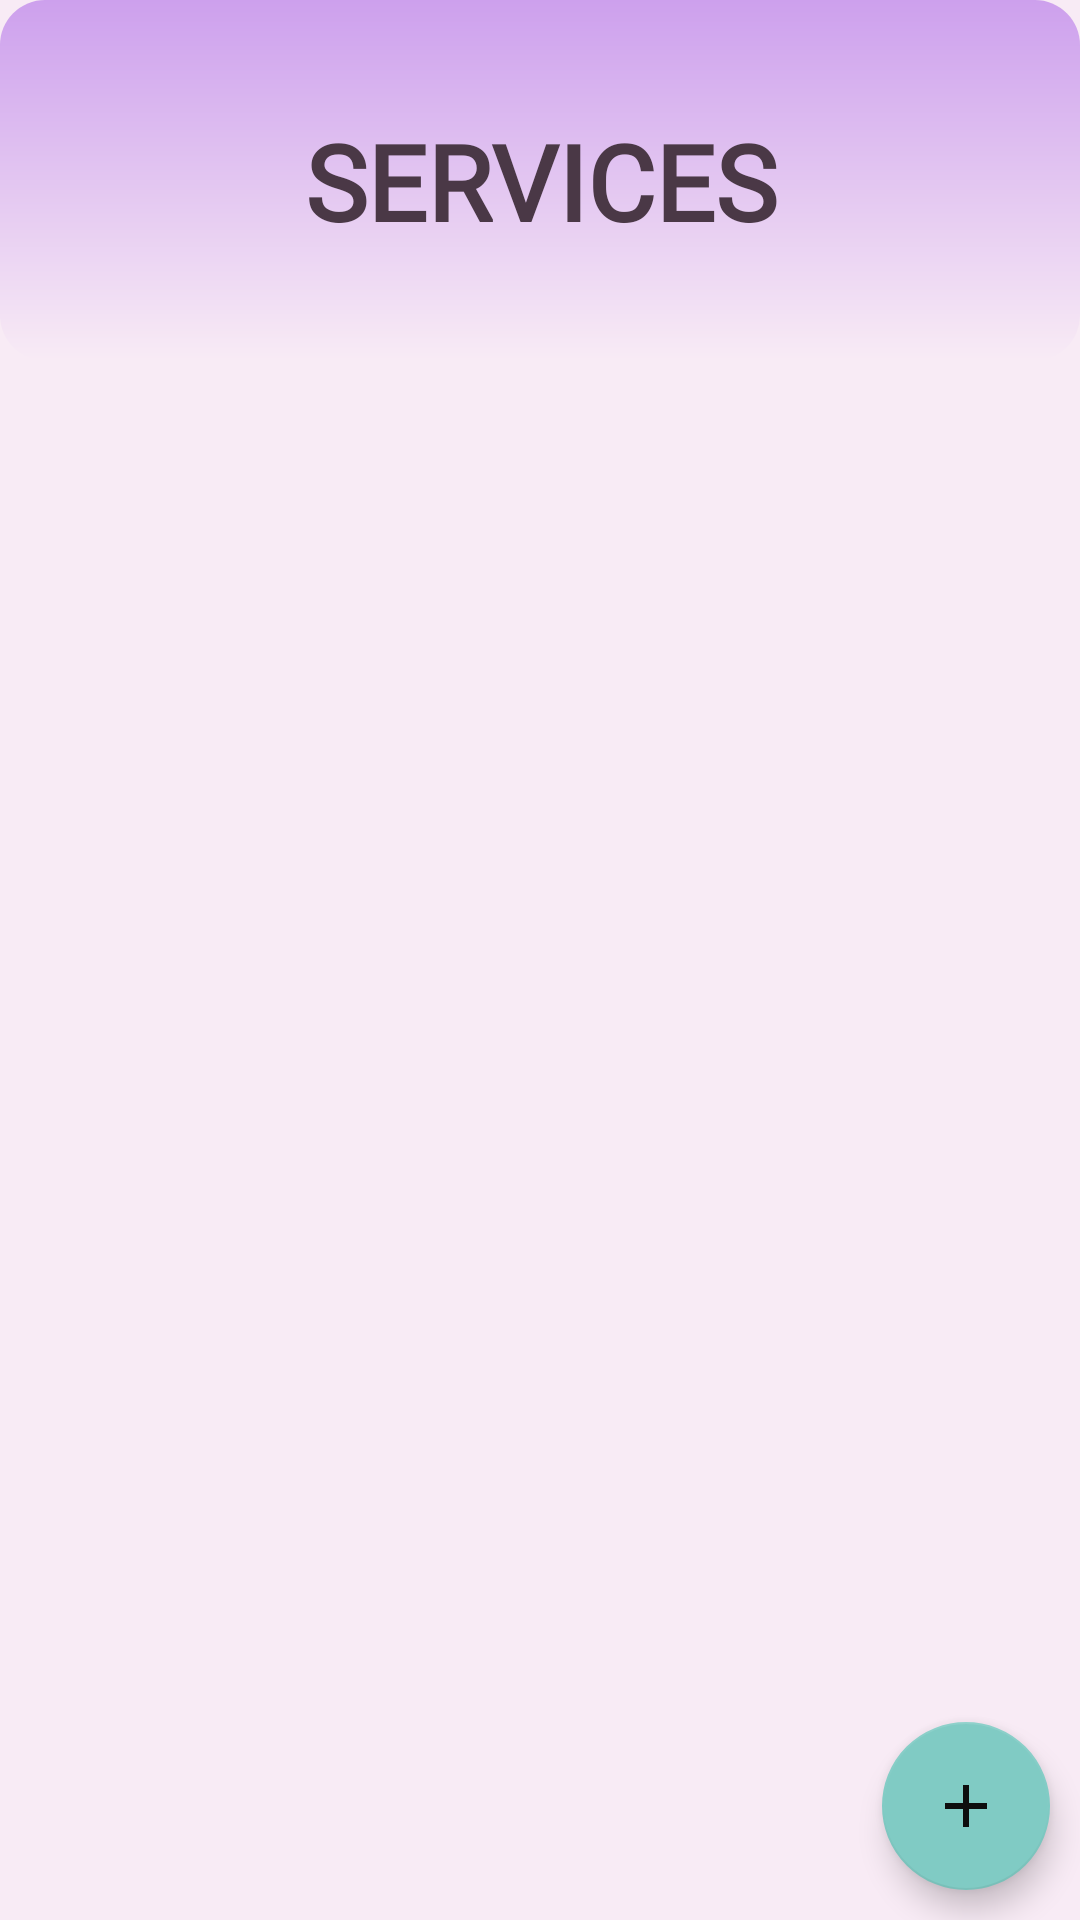

Where icons sit on this 1080*1920 app screen, as [x1,y1,x2,y2]:
pluss: [882,1722,1050,1890]
